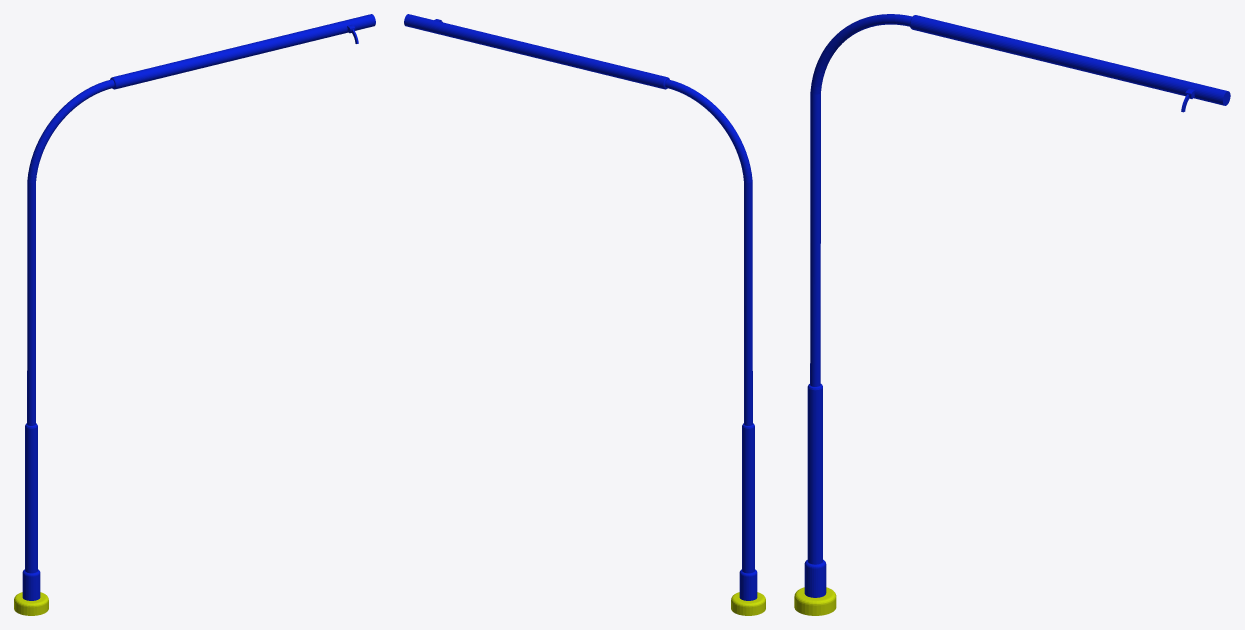
The model's file is sloup2.fbx.
The picture shows the model from 3 angles, left to right: view 1: azimuth 30°, elevation 25°; view 2: azimuth 150°, elevation 25°; view 3: azimuth 330°, elevation 25°; orthographic projection. The views are drawn at different scales.
Visible parts, largest first — view 1: sloup2; view 2: sloup2; view 3: sloup2.
Boxes of the visible parts, left/top/right/bottom form: sloup2: left=14, top=14, right=375, bottom=615; sloup2: left=404, top=14, right=765, bottom=615; sloup2: left=794, top=14, right=1230, bottom=615.
Size of the model in its own units: 425 by 582 by 41.
